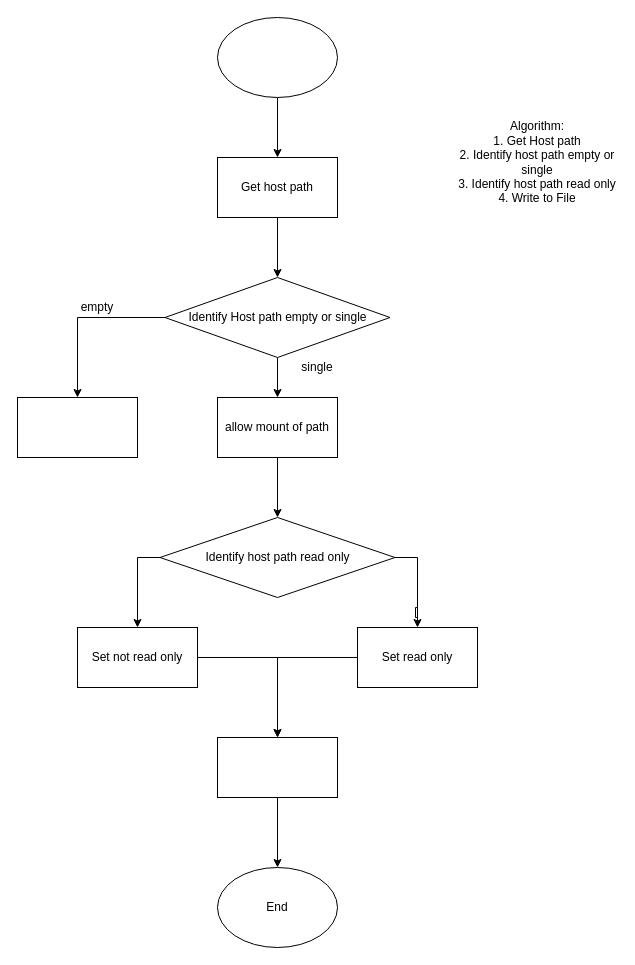
The diagram is 635 pixels wide and 965 high, and some of its shapes have lost their labels. Here are the shapes that lost their labels. From the top down, the centre of each, then its label:
At [277,57]: "Start".
At [77,427]: "No restriction on host path".
At [277,767]: "Write to File".
